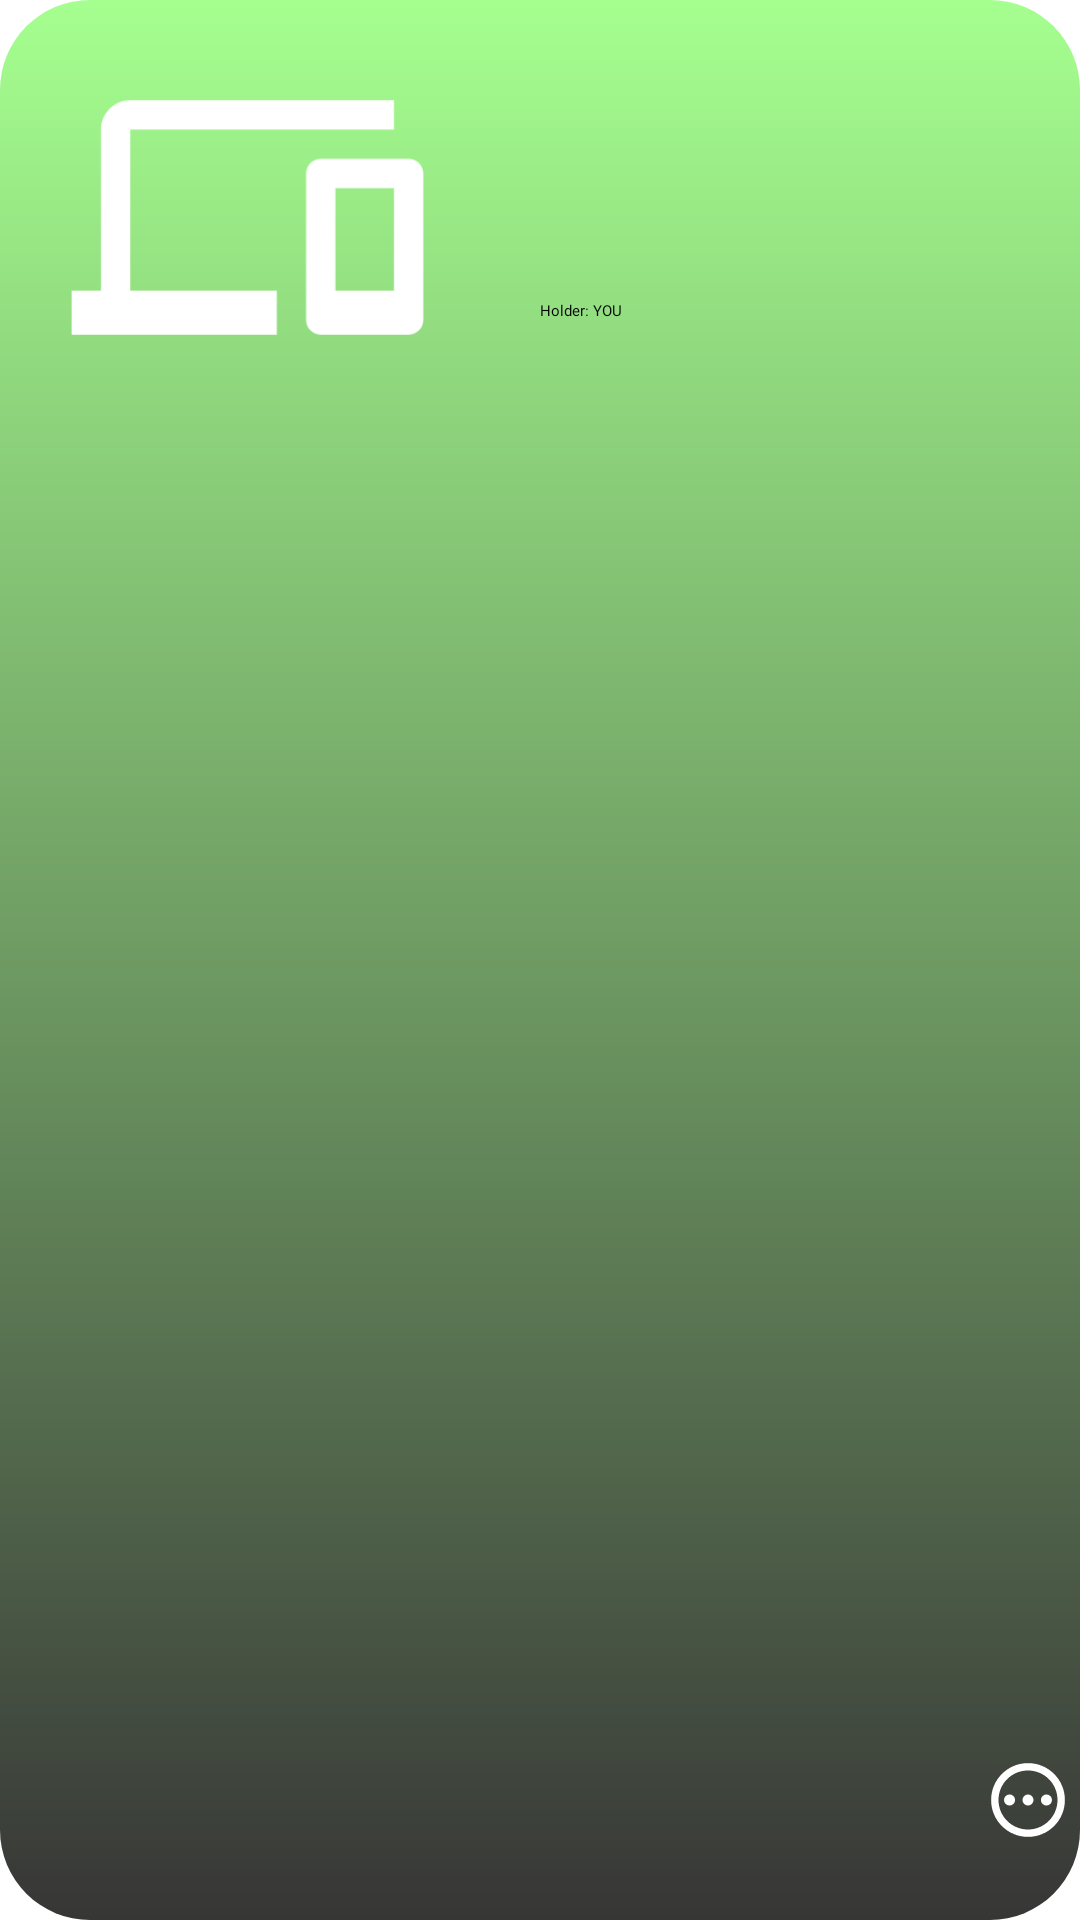

Icon bounding boxes for this 1080x1920 phone screenshot, format (x1=x1, y1=y1, x2=x2, y2=y2):
detail: (x1=968, y1=1763, x2=1080, y2=1890)
